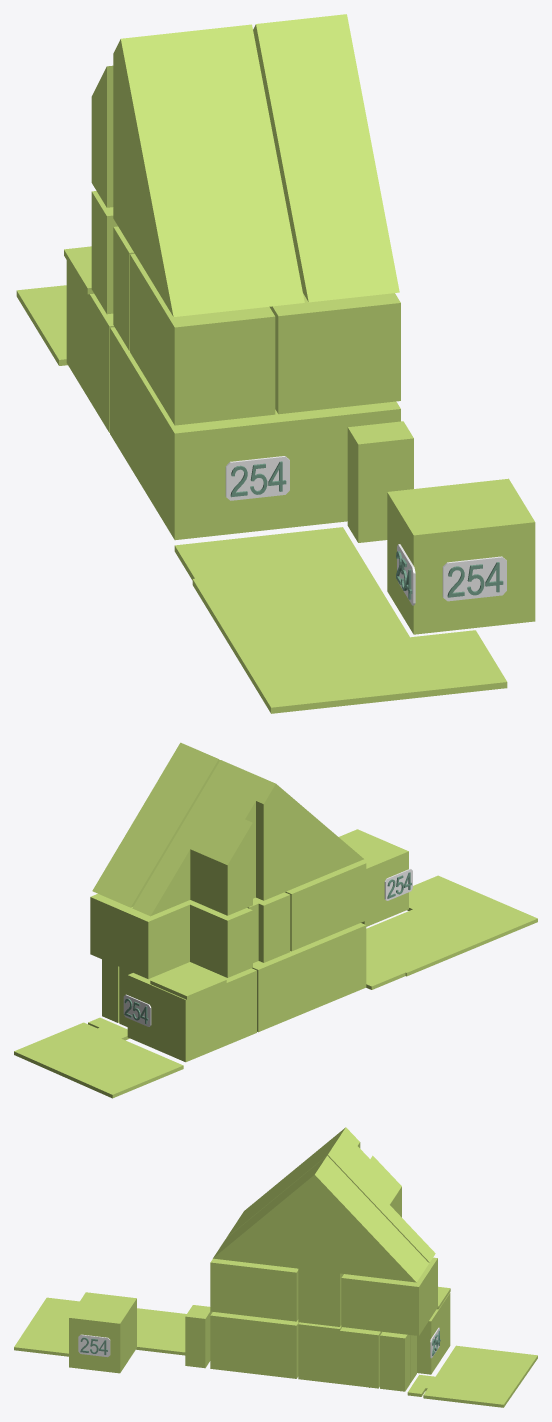
The picture shows the model from 3 angles, top to bottom: view 1: azimuth 30°, elevation 25°; view 2: azimuth 150°, elevation 25°; view 3: azimuth 270°, elevation 25°; orthographic projection. The views are drawn at different scales.
Visible parts, largest first — view 1: g_6, g_17, g_0, g_7, g_3, g_10, g_9, g_4, g_1, g_16, g_11, g_8 (+4 smaller); view 2: g_6, g_11, g_17, g_1, g_0, g_16, g_7, g_10, g_3, g_13, g_15, g_5 (+4 smaller); view 3: g_7, g_11, g_0, g_16, g_6, g_2, g_9, g_17, g_3, g_8, g_14, g_5 (+3 smaller).
Part boxes in pixels (left/top/right/bottom): g_6: left=91, top=24, right=304, bottom=316; g_17: left=174, top=527, right=507, bottom=713; g_0: left=110, top=327, right=400, bottom=540; g_7: left=253, top=19, right=399, bottom=302; g_3: left=387, top=478, right=535, bottom=634; g_10: left=130, top=254, right=275, bottom=425; g_9: left=269, top=293, right=400, bottom=414; g_4: left=347, top=421, right=413, bottom=542; g_1: left=66, top=260, right=114, bottom=432; g_16: left=16, top=285, right=67, bottom=365; g_11: left=91, top=191, right=117, bottom=314; g_8: left=303, top=14, right=355, bottom=63; g_6: left=132, top=760, right=363, bottom=916; g_11: left=90, top=894, right=252, bottom=978; g_17: left=366, top=875, right=537, bottom=989; g_1: left=127, top=962, right=256, bottom=1062; g_0: left=252, top=923, right=366, bottom=1032; g_16: left=14, top=1017, right=183, bottom=1098; g_7: left=92, top=750, right=219, bottom=907; g_10: left=285, top=861, right=366, bottom=951; g_3: left=339, top=829, right=408, bottom=926; g_13: left=247, top=892, right=290, bottom=962; g_15: left=150, top=964, right=226, bottom=999; g_5: left=102, top=959, right=119, bottom=1022; g_7: left=213, top=1155, right=428, bottom=1282; g_11: left=341, top=1257, right=437, bottom=1335; g_0: left=210, top=1312, right=298, bottom=1378; g_16: left=407, top=1345, right=537, bottom=1407; g_6: left=226, top=1127, right=435, bottom=1262; g_2: left=298, top=1322, right=416, bottom=1388; g_9: left=210, top=1258, right=298, bottom=1321; g_17: left=14, top=1297, right=186, bottom=1356; g_3: left=69, top=1292, right=136, bottom=1373; g_8: left=298, top=1165, right=344, bottom=1273; g_14: left=298, top=1269, right=343, bottom=1326; g_5: left=380, top=1332, right=410, bottom=1391.
Bounding box in the file's own units: 11.24 × 10.25 × 23.2.
